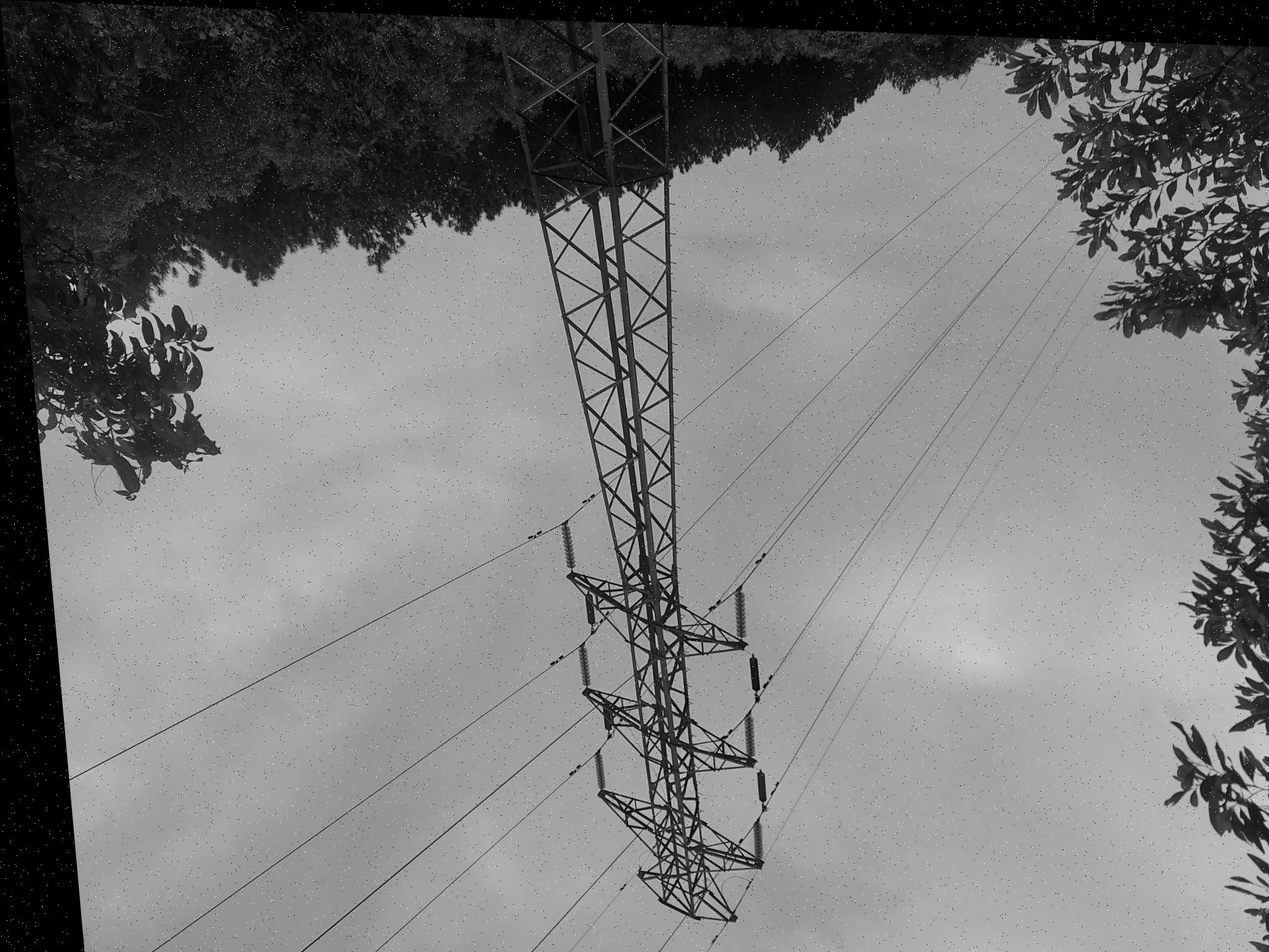tower: (480, 18, 785, 941)
